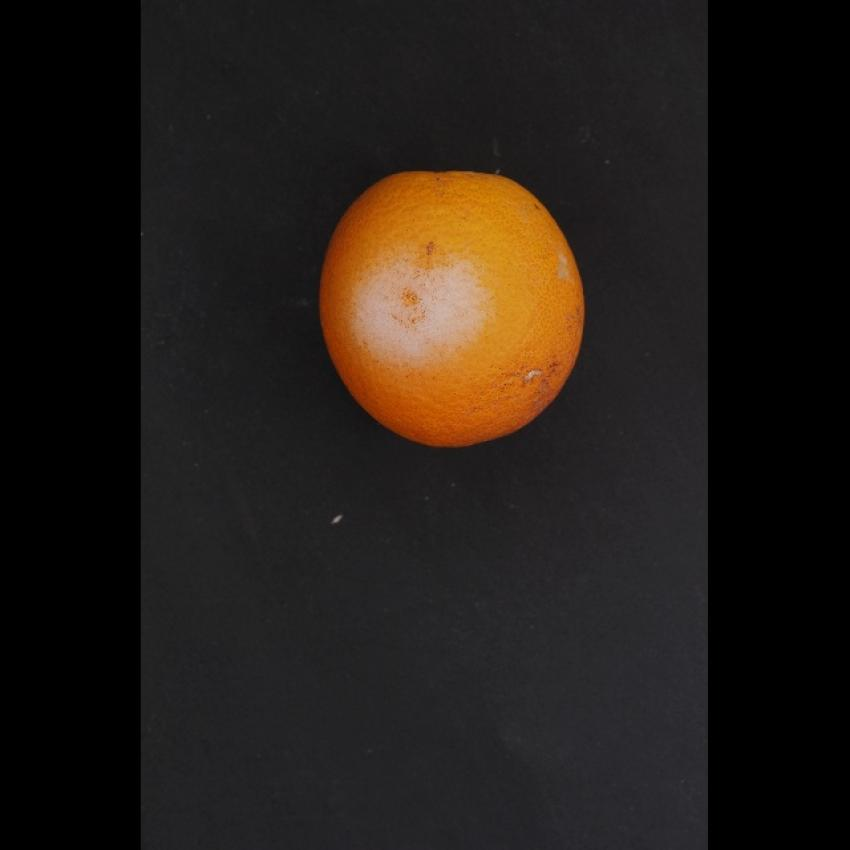Mal estado: (312, 158, 598, 466)
